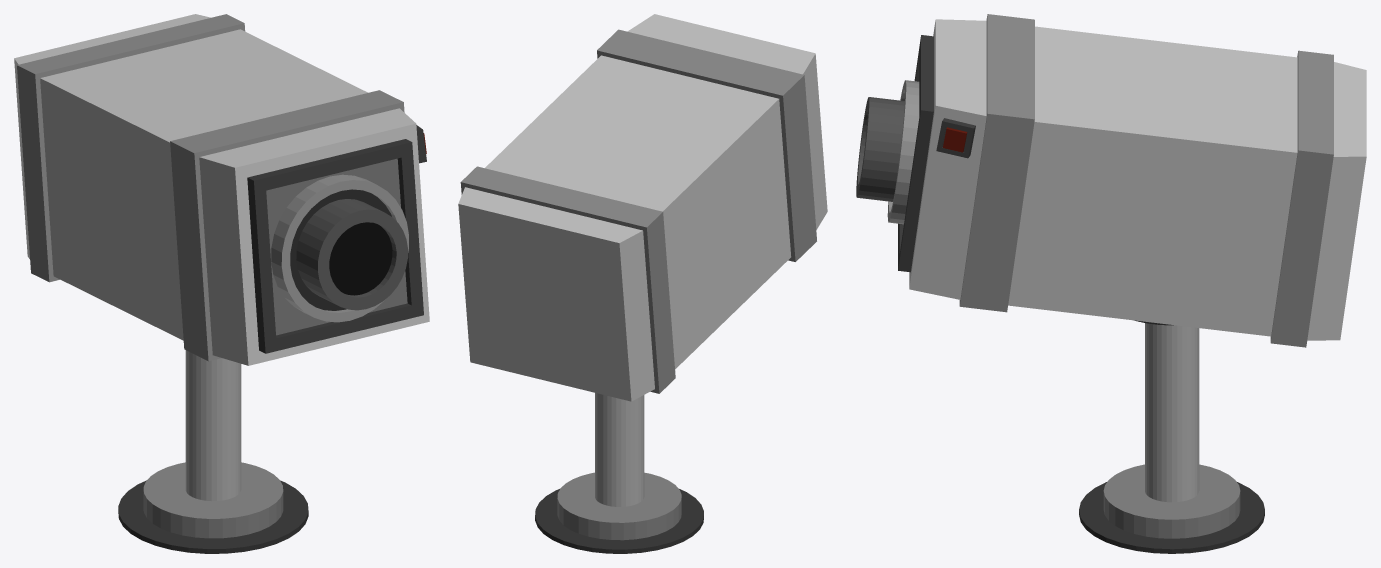
File: Security Camera.fbx
3 views of the same model, side by side, from view 1: azimuth 30°, elevation 25°; view 2: azimuth 150°, elevation 25°; view 3: azimuth 270°, elevation 25° (orthographic). The views are drawn at different scales.
Visible parts, largest first — view 1: Security Camera; view 2: Security Camera; view 3: Security Camera.
Part boxes in pixels (x1,y1,x2,y2): Security Camera: [14, 14, 429, 553]; Security Camera: [458, 14, 827, 553]; Security Camera: [856, 14, 1366, 553].
Size of the model in its own units: 18.4 by 37.91 by 39.16.
Materials: 2 (2 with a texture image).
